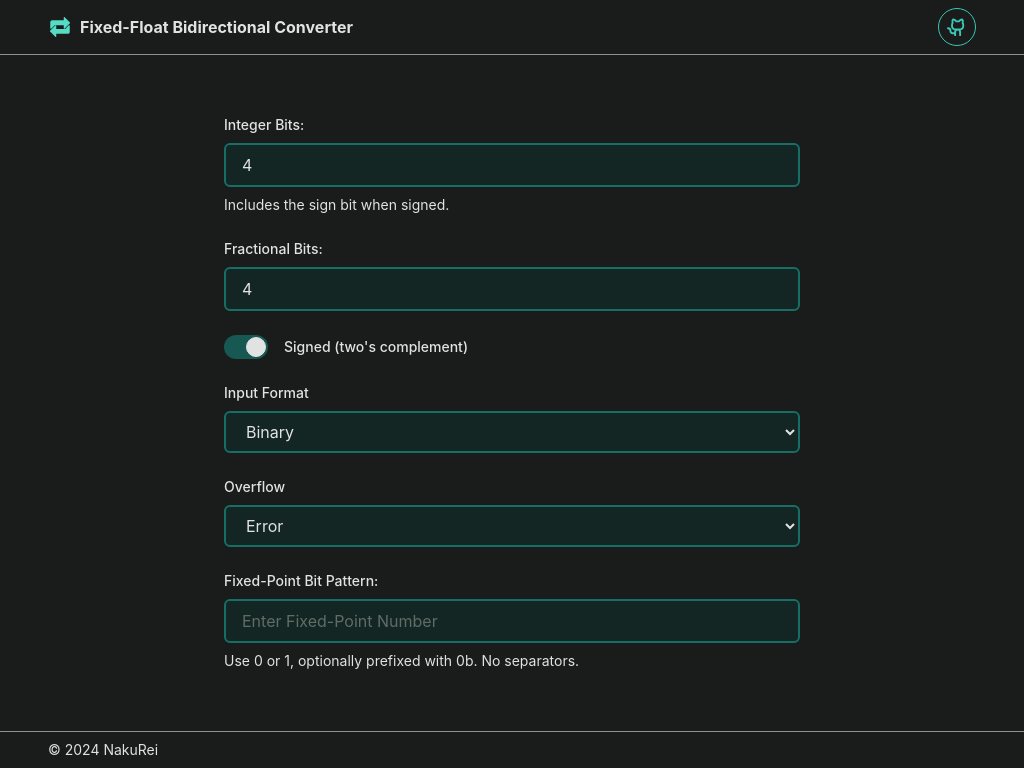
Test: describes 0000001 with saturate
This screenshot has width=1024, height=768.
Select "Binary" in the dropdown labelled "Input Format" at [512, 432], box x1=224 y1=411 x2=800 y2=453
Select "Saturate" in the dropdown labelled "Overflow" at [512, 526], box x1=224 y1=505 x2=800 y2=547
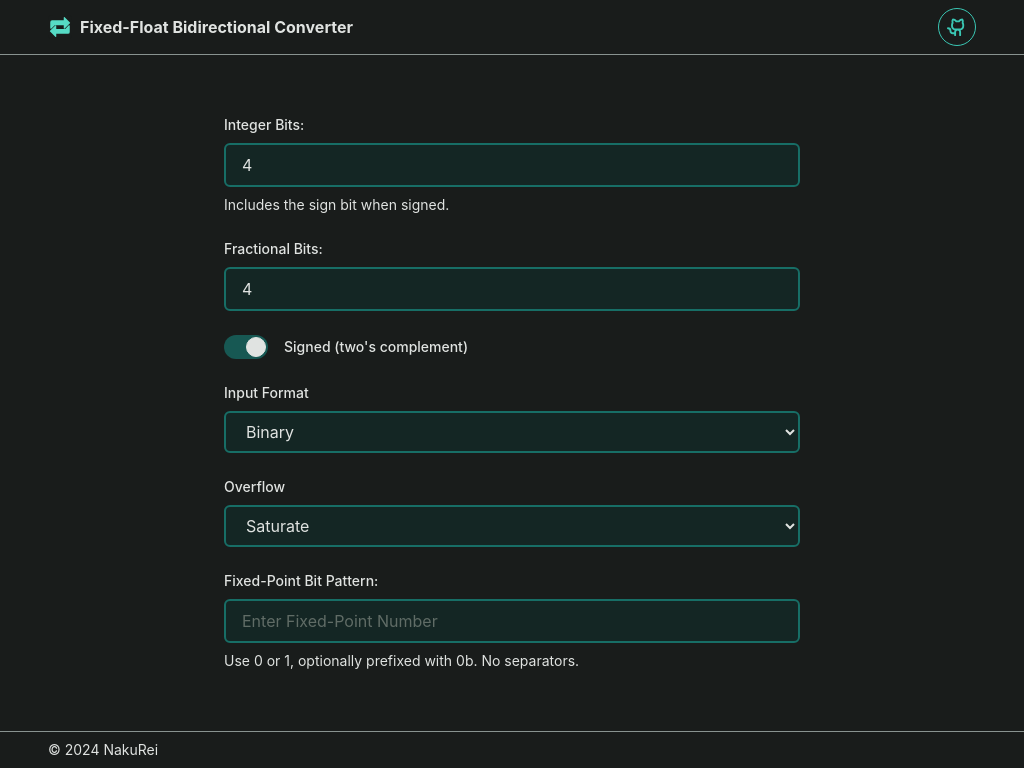
Type "0000001" into the field labelled "Fixed-Point Bit Pattern:" at [512, 621], box x1=224 y1=599 x2=800 y2=643
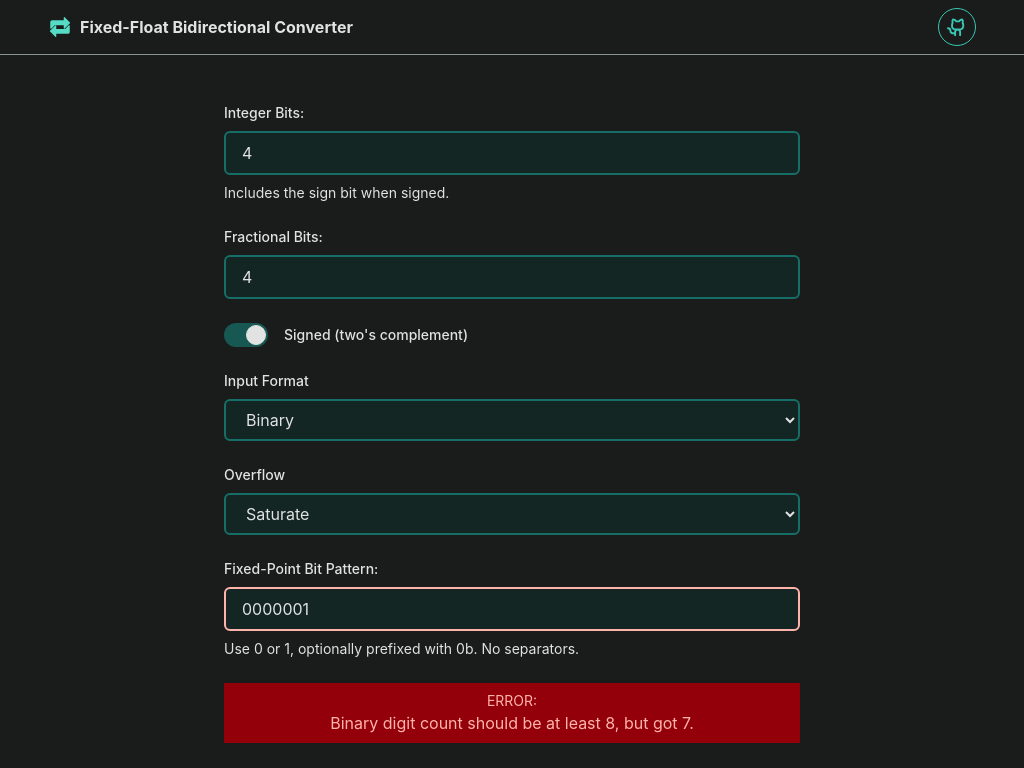
Replace the text in the field labelled "Fixed-Point Bit Pattern:" with "000000001" at [512, 609], box x1=224 y1=587 x2=800 y2=631
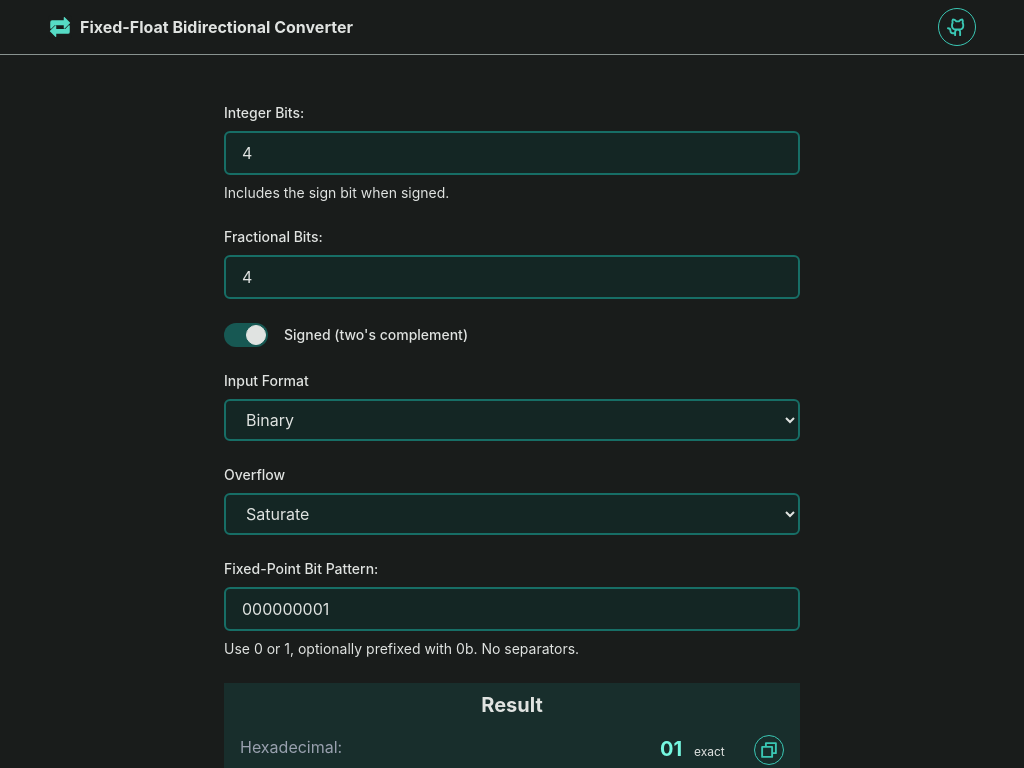
Expected: the heading "Result" is shown, x1=481 y1=693 x2=543 y2=717
